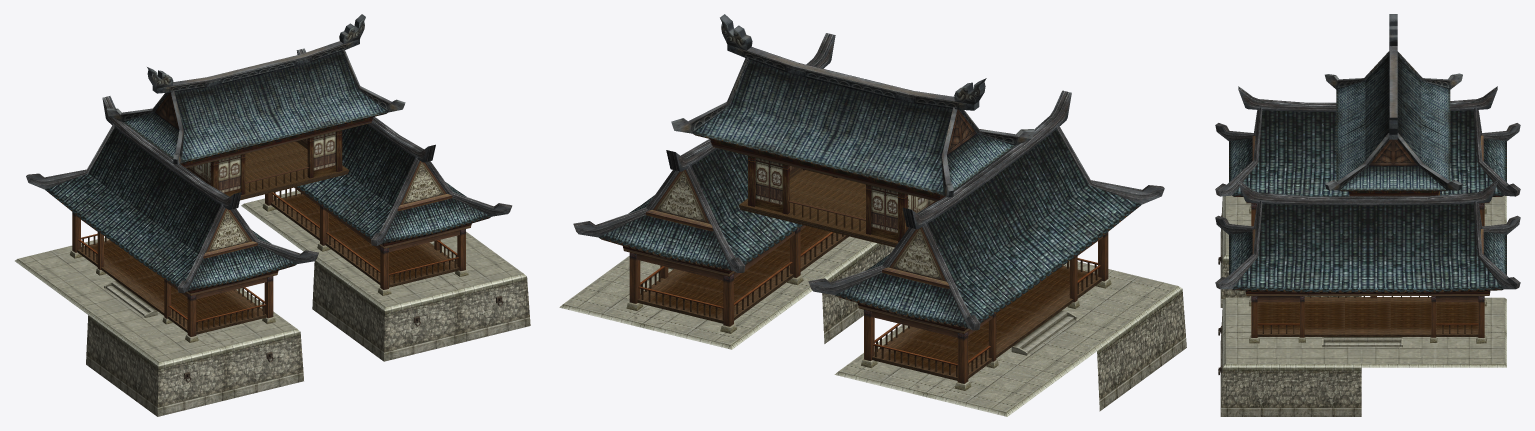
File: milgyo_building02.fbx
3 views of the same model, side by side, from view 1: azimuth 30°, elevation 25°; view 2: azimuth 150°, elevation 25°; view 3: azimuth 270°, elevation 25° (orthographic). The views are drawn at different scales.
Parts seen in each view (by area): view 1: milgyo_building02; view 2: milgyo_building02; view 3: milgyo_building02.
Part boxes in pixels (bbox=[...]): milgyo_building02: bbox=[15, 14, 530, 416]; milgyo_building02: bbox=[559, 14, 1186, 416]; milgyo_building02: bbox=[1215, 14, 1520, 416].
Bounding box in the file's own units: 47.4 × 32.22 × 34.12.
